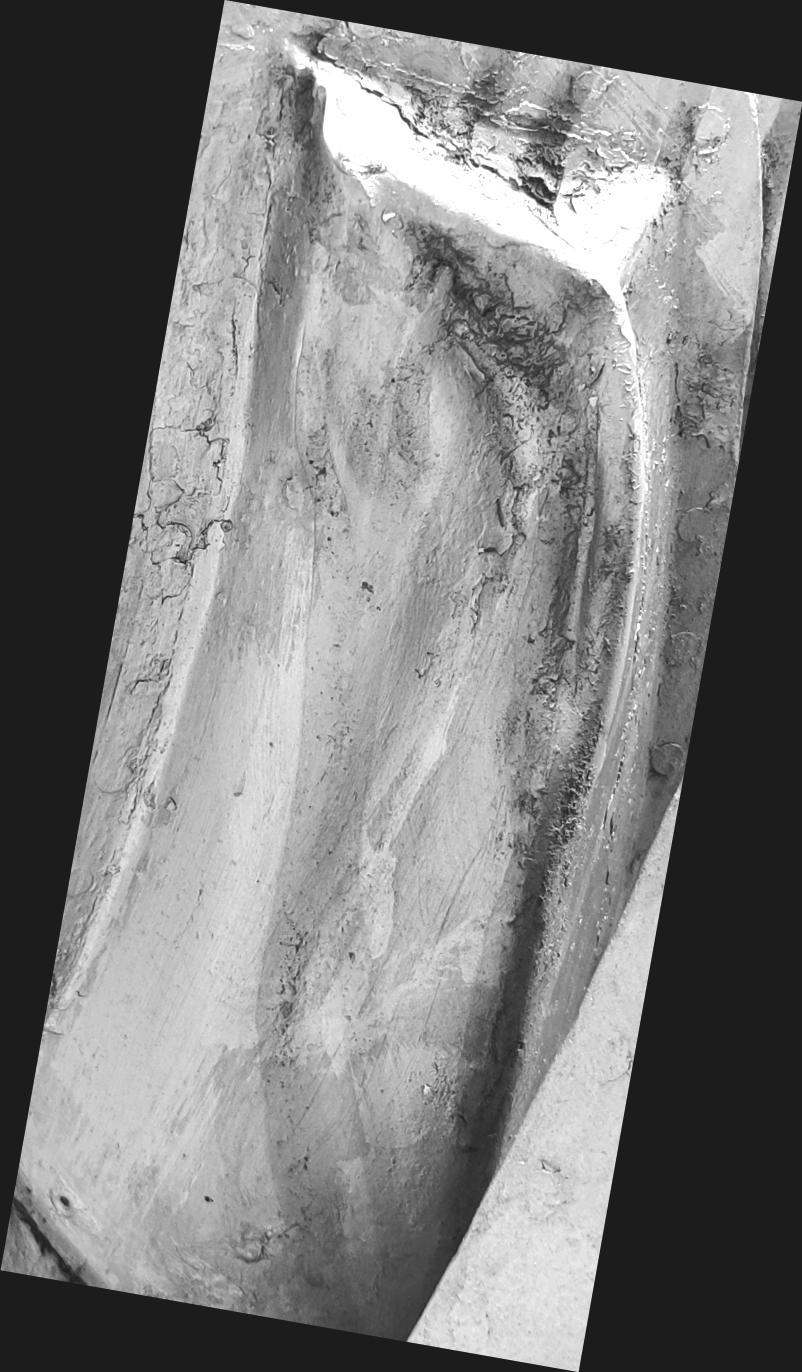dent: (0, 1, 802, 1372)
